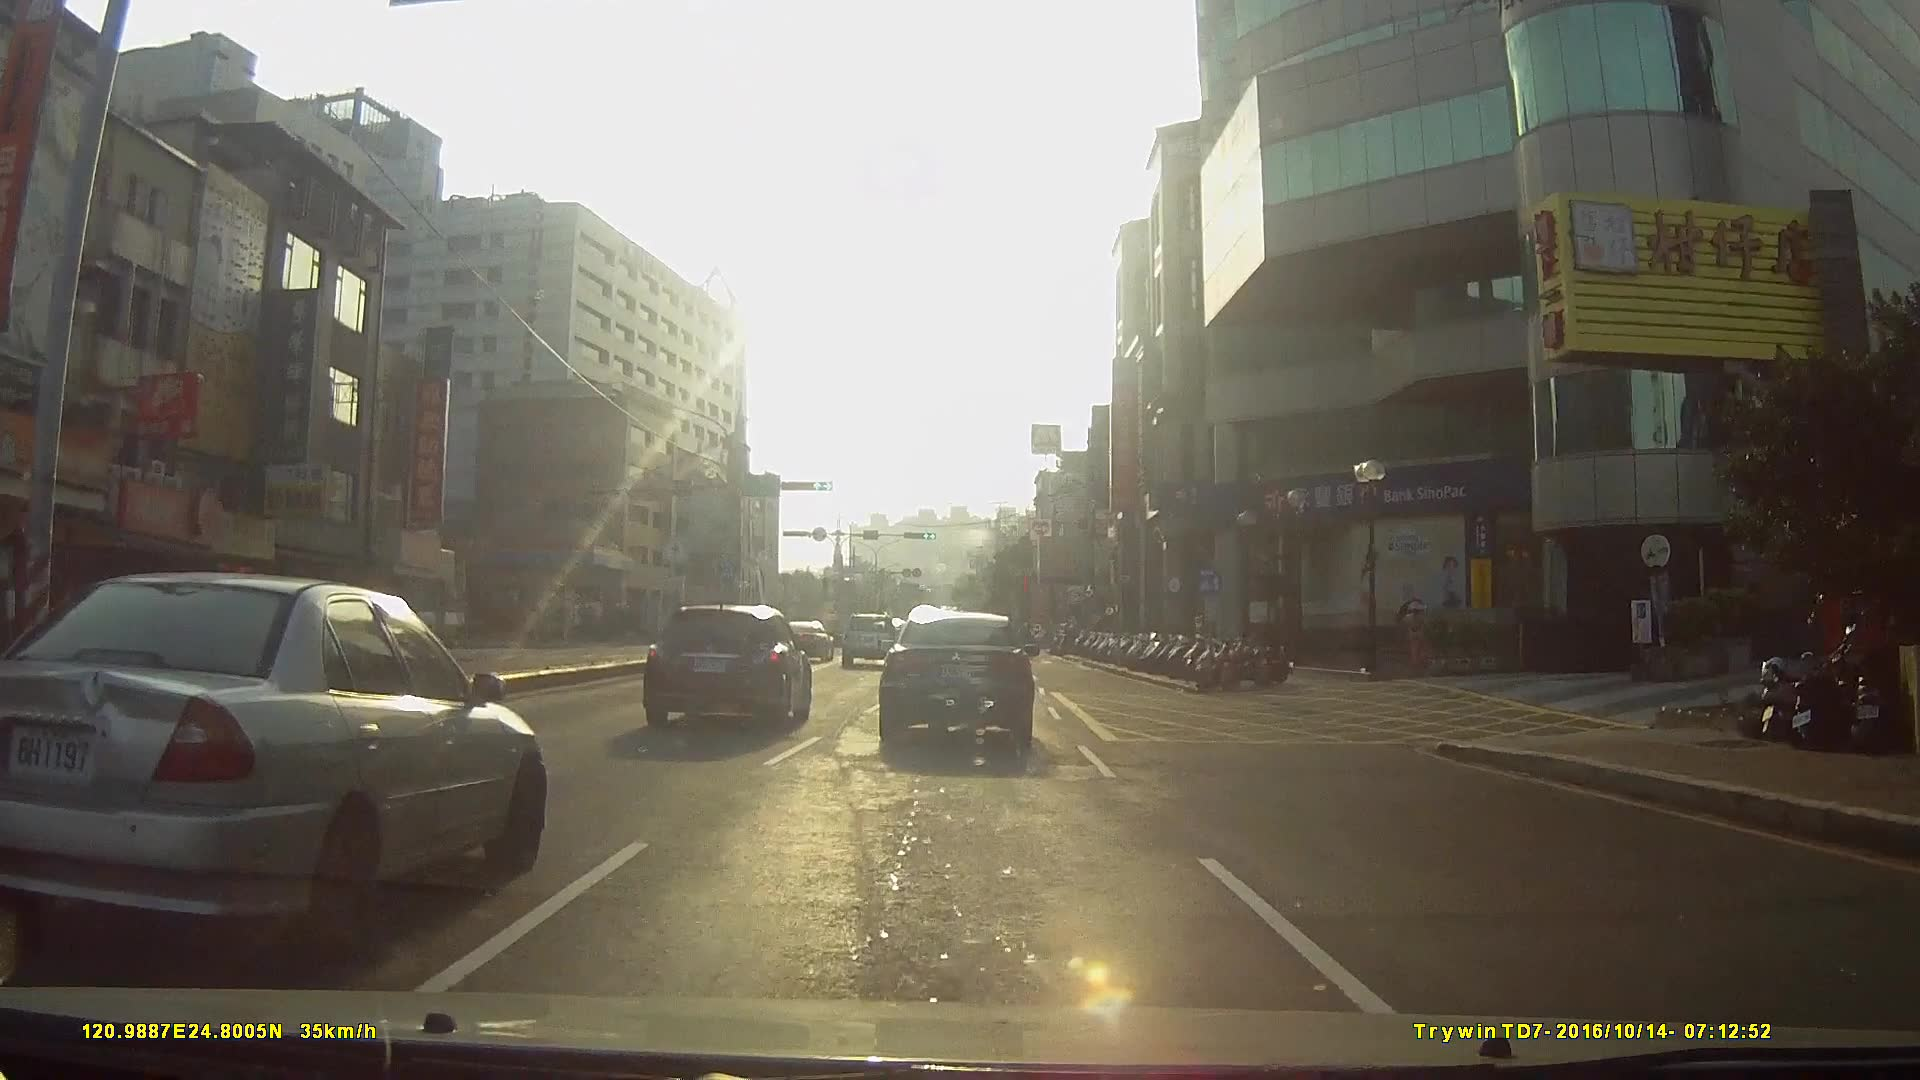pedestrian: (1402, 594, 1436, 679)
vehicle: (0, 566, 539, 963), (875, 605, 1035, 752), (637, 600, 810, 733), (835, 611, 897, 672), (776, 617, 829, 662)
